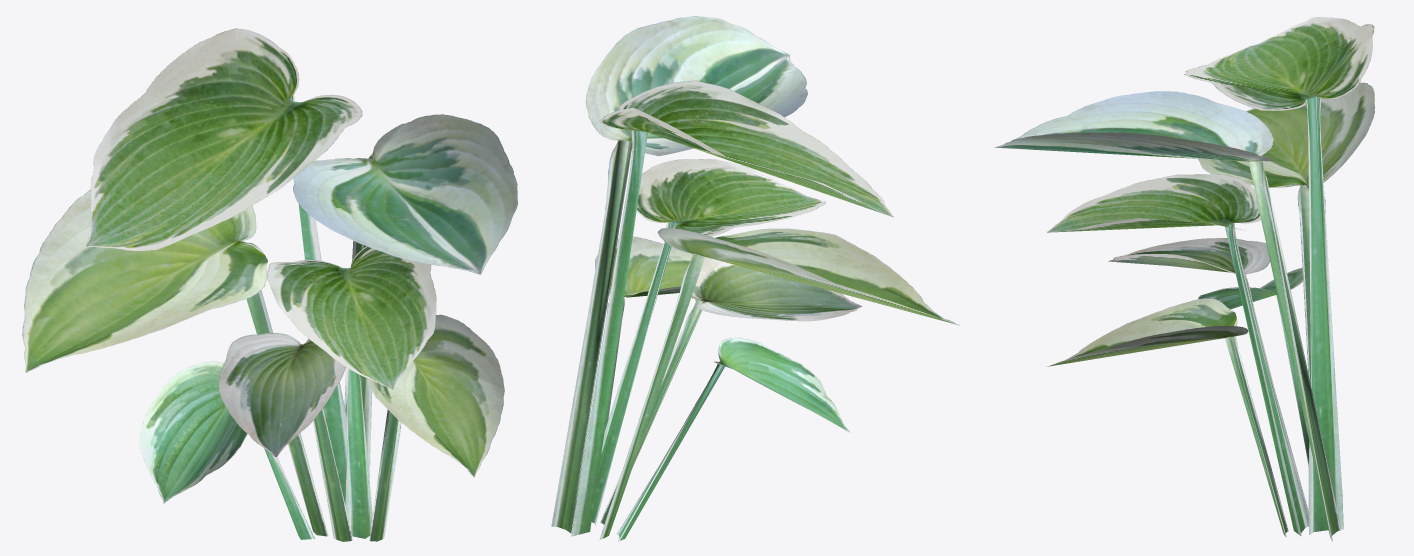
Rendered from plant_small_wg_00_i-corner05.fbx.
The picture shows the model from 3 angles, left to right: view 1: azimuth 30°, elevation 25°; view 2: azimuth 150°, elevation 25°; view 3: azimuth 270°, elevation 25°; orthographic projection. The views are drawn at different scales.
Parts seen in each view (by area): view 1: plant_small_wg_00_i-corner05; view 2: plant_small_wg_00_i-corner05; view 3: plant_small_wg_00_i-corner05.
Part boxes in pixels (left/top/right/bottom): plant_small_wg_00_i-corner05: left=22, top=28, right=517, bottom=541; plant_small_wg_00_i-corner05: left=551, top=16, right=959, bottom=541; plant_small_wg_00_i-corner05: left=994, top=17, right=1374, bottom=541.
Bounding box in the file's own units: 43.42 × 49.49 × 39.08.
Materials: 1 (1 with a texture image).
